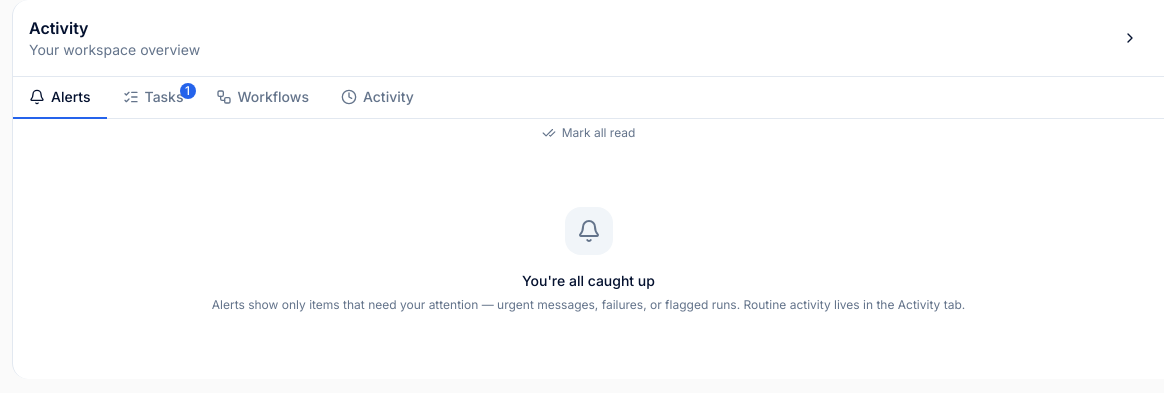
ContextPanel › shows available older tasks when there are no tasks for the default today filter
Click the button "Tasks 1" at (153, 98), box left=106, top=77, right=200, bottom=119
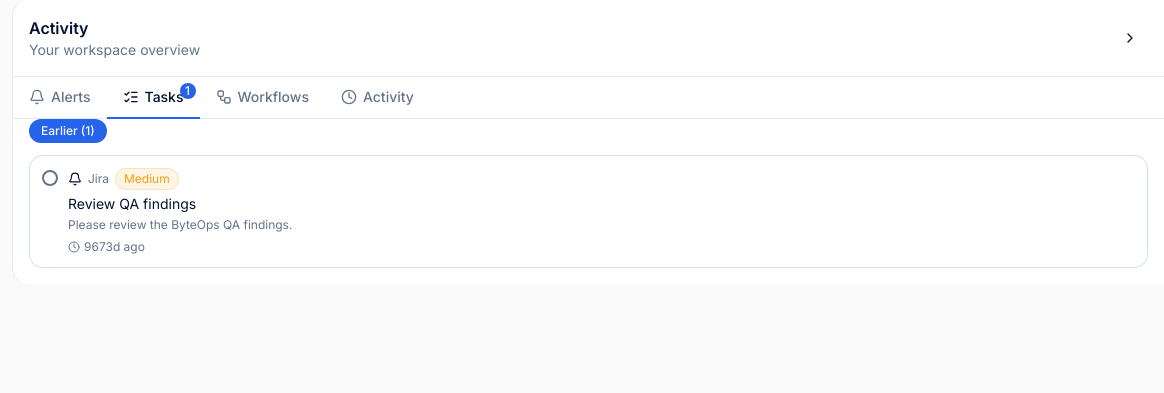
Check: the text "Review QA findings" is shown, box left=68, top=195, right=196, bottom=212
